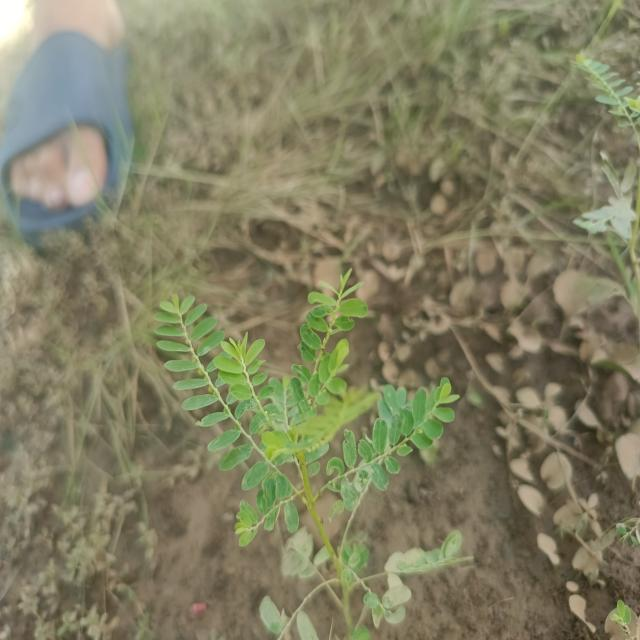weed: (146, 272, 459, 640)
